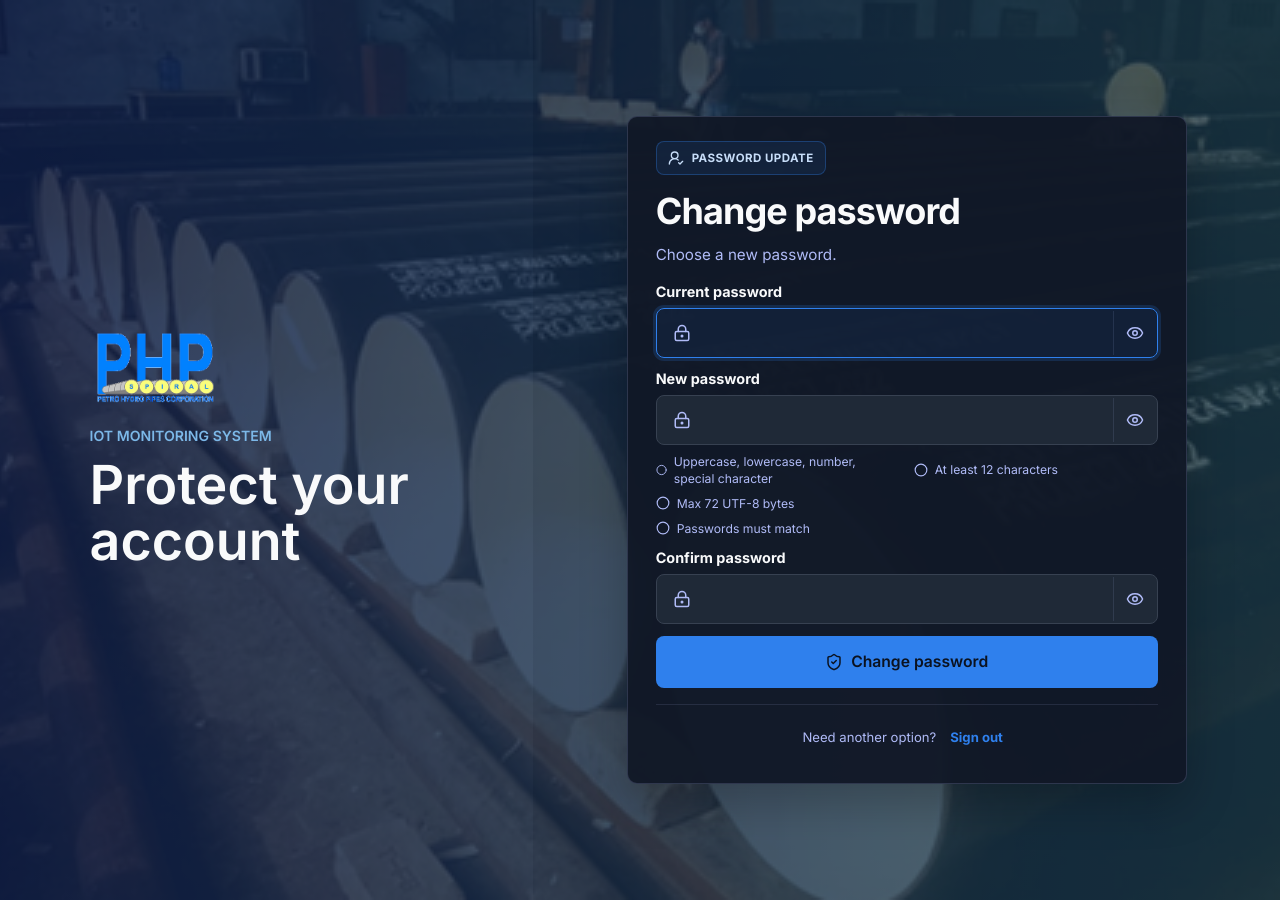
Test case: rejects matching weak passwords in change mode true
Step 1. Type "old" into the password field labelled "Current password" → (903, 333), box x1=703 y1=309 x2=1103 y2=357
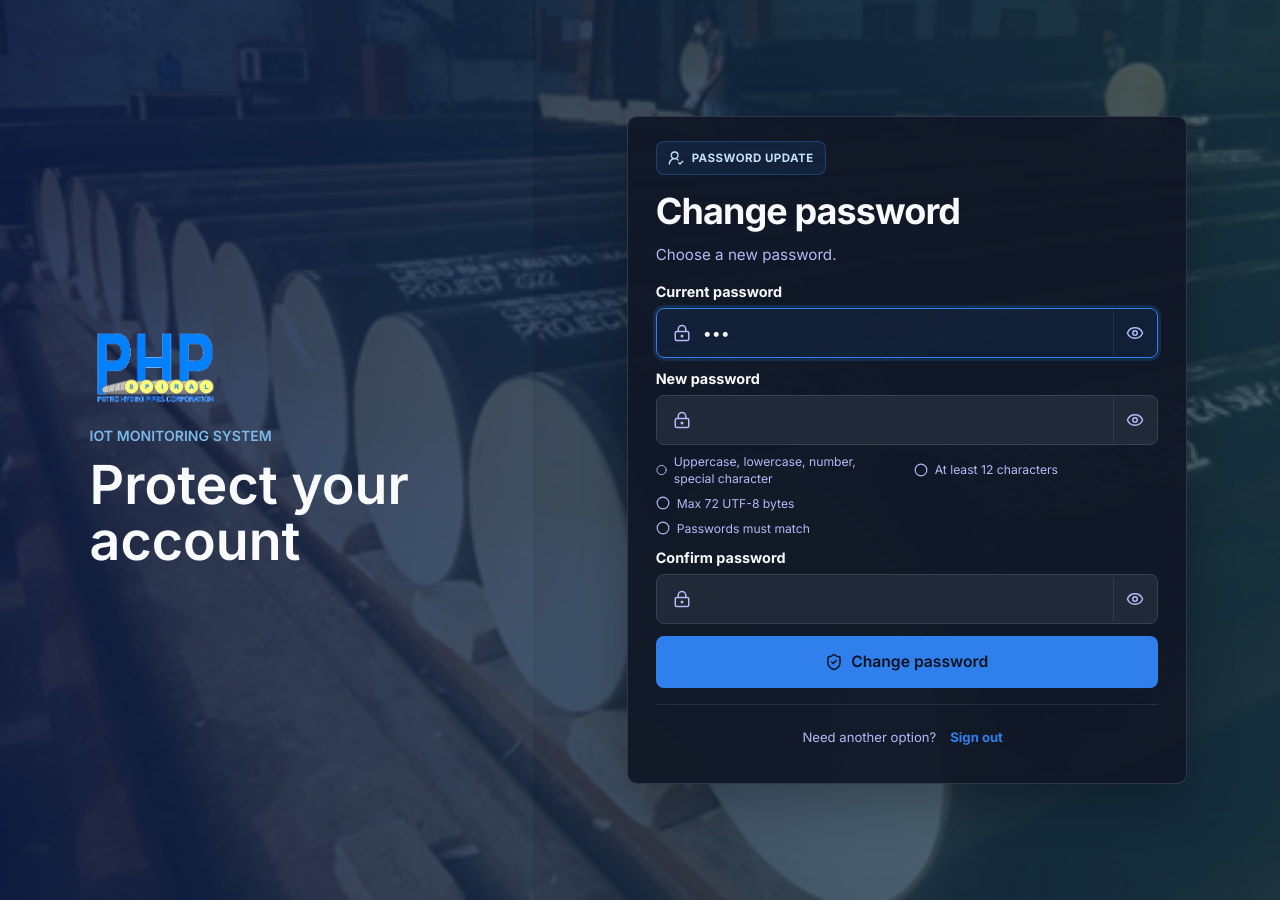
Step 2. Type "aaaaaaaaaaaa" into the password field labelled "New password" → (903, 420), box x1=703 y1=396 x2=1103 y2=444
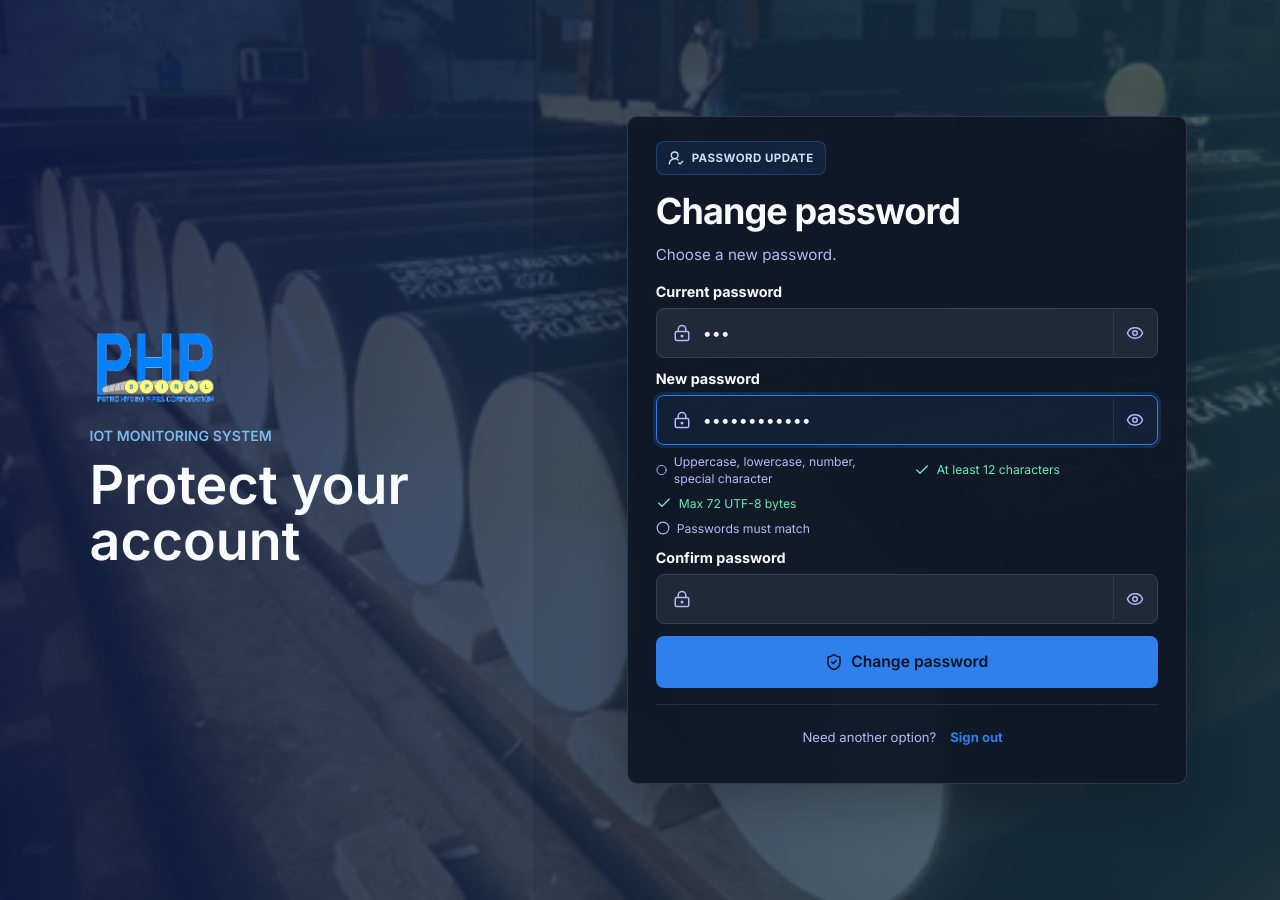
Step 3. Type "aaaaaaaaaaaa" into the password field labelled "Confirm password" → (903, 599), box x1=703 y1=575 x2=1103 y2=623
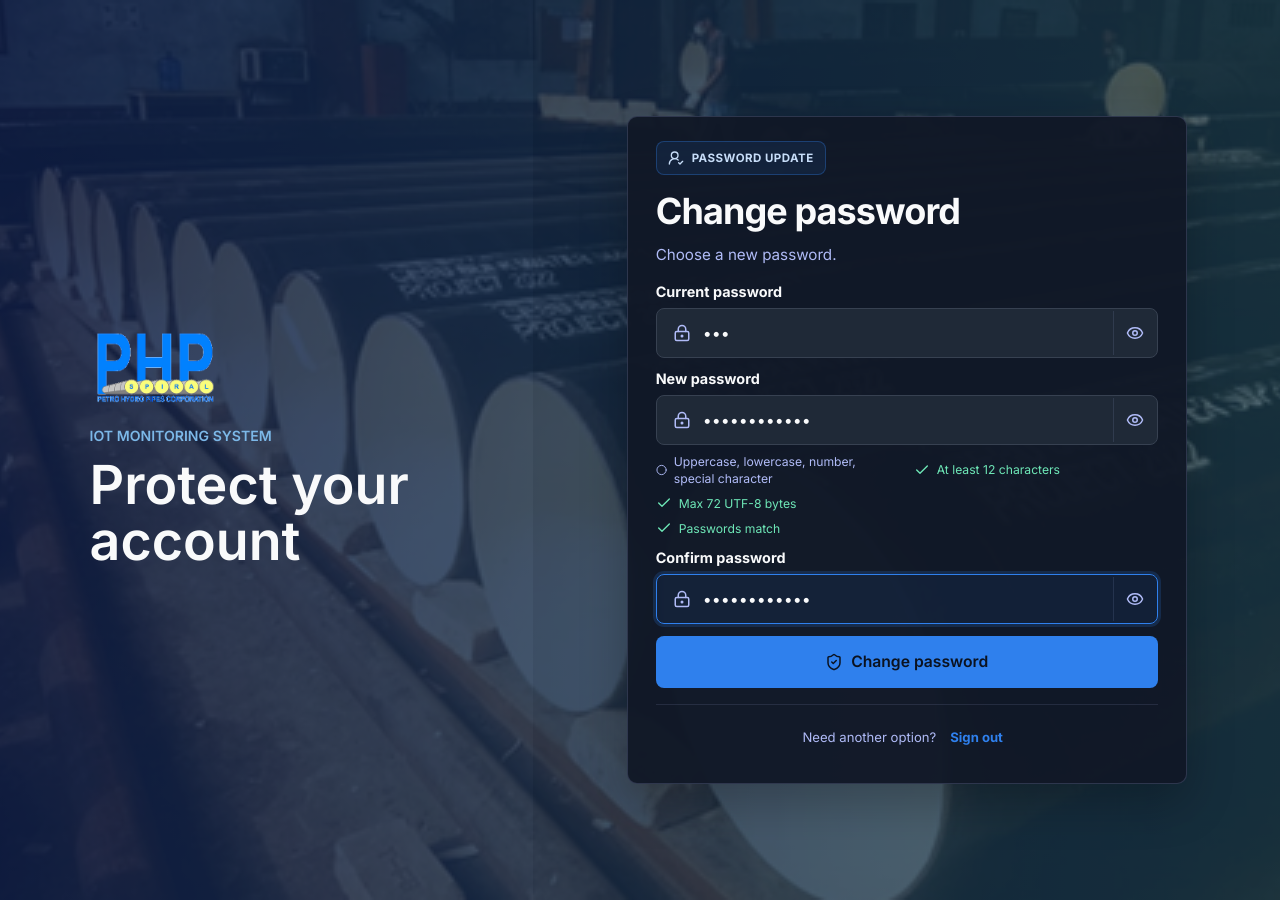
Step 4. Click the button "Change password" → (907, 662), box x1=656 y1=636 x2=1158 y2=688
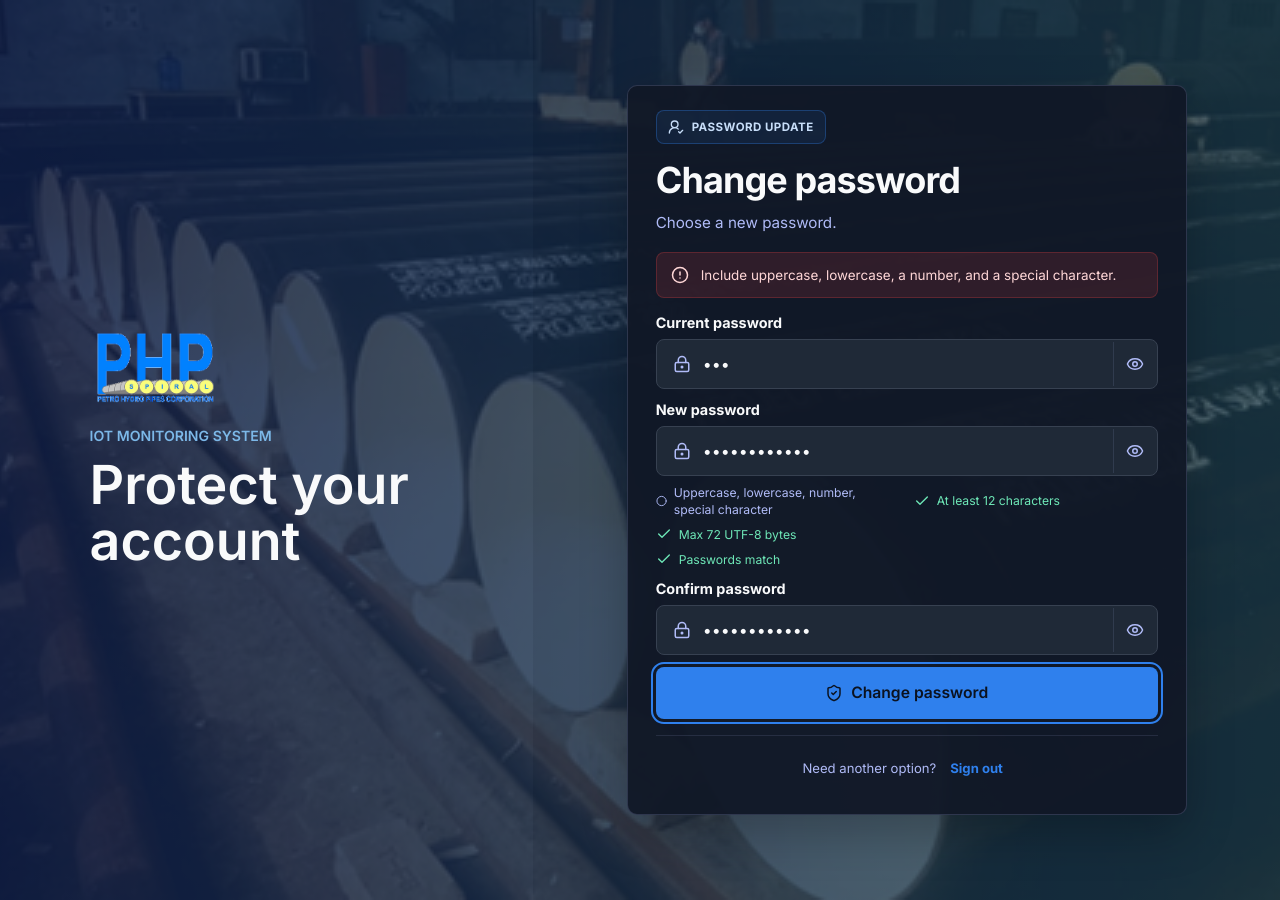
Now the message reads "Include uppercase, lowercase, a number, and a special character.", box x1=701 y1=267 x2=1116 y2=283
